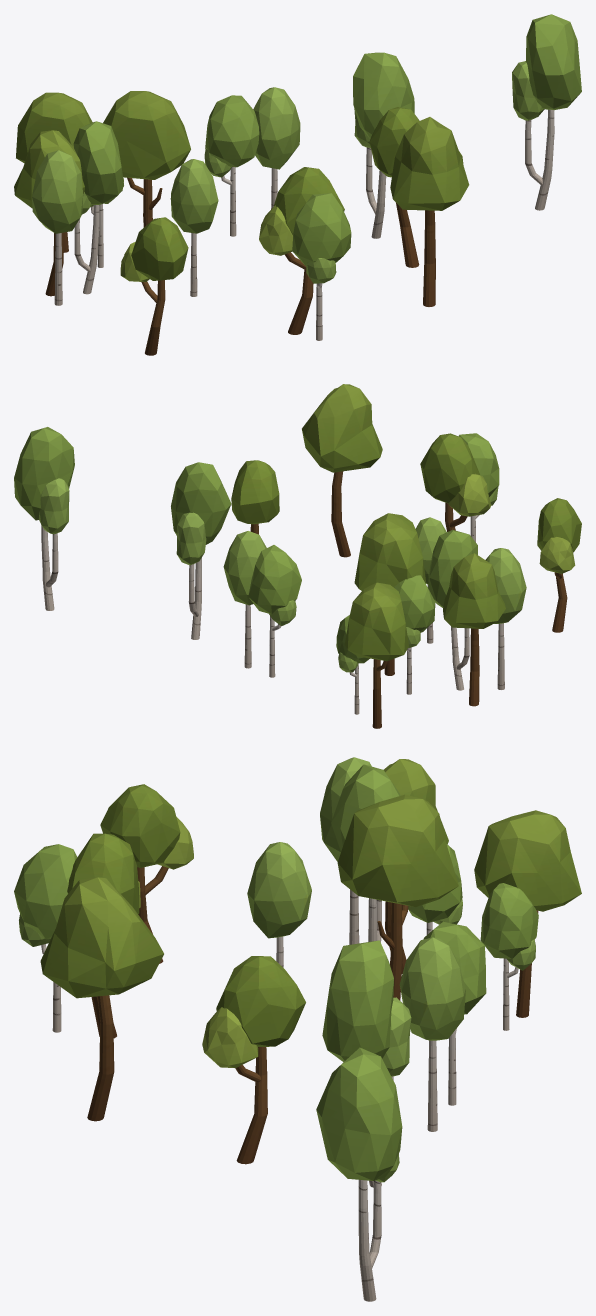
Rendered from Trees3.gltf.
The picture shows the model from 3 angles, top to bottom: view 1: azimuth 30°, elevation 25°; view 2: azimuth 150°, elevation 25°; view 3: azimuth 270°, elevation 25°; orthographic projection. The views are drawn at different scales.
Parts seen in each view (by area): view 1: BirchTree2 - copy.028, Beechtree1 - copy.006, Beechtree3 - copy.038, BirchTree2 - copy.006, BirchTree3 - copy.020, BirchTree2 - copy.043, Beechtree2 - copy.022, Beechtree2 - copy.043, BirchTree1 - copy.046, BirchTree3 - copy.018, BirchTree1 - copy.037, BirchTree1 - copy.011 (+3 smaller); view 2: Beechtree1 - copy.006, BirchTree2 - copy.028, BirchTree2 - copy.006, Beechtree3 - copy.021, Beechtree1 - copy.030, Beechtree2 - copy.043, Beechtree3 - copy.038, BirchTree3 - copy.018, Beechtree2 - copy.022, BirchTree2 - copy.043, Beechtree2 - copy.003, BirchTree1 - copy.011 (+5 smaller); view 3: Beechtree1 - copy.006, Beechtree3 - copy.038, BirchTree2 - copy.028, Beechtree2 - copy.003, BirchTree2 - copy.006, Beechtree3 - copy.021, BirchTree1 - copy.011, Beechtree2 - copy.022, BirchTree1 - copy.037, BirchTree3 - copy.020, BirchTree3 - copy.011, Beechtree2 - copy.043 (+5 smaller).
Part boxes in pixels (x1,y1,x2,y2): BirchTree2 - copy.028: [512, 14, 581, 210]; Beechtree1 - copy.006: [390, 117, 469, 306]; Beechtree3 - copy.038: [103, 91, 190, 227]; BirchTree2 - copy.006: [353, 52, 414, 238]; BirchTree3 - copy.020: [292, 193, 351, 340]; BirchTree2 - copy.043: [73, 121, 123, 294]; Beechtree2 - copy.022: [120, 217, 188, 355]; Beechtree2 - copy.043: [259, 167, 344, 334]; BirchTree1 - copy.046: [32, 150, 83, 305]; BirchTree3 - copy.018: [204, 95, 259, 236]; BirchTree1 - copy.037: [170, 159, 218, 296]; BirchTree1 - copy.011: [253, 87, 300, 209]; Beechtree1 - copy.006: [302, 384, 382, 557]; BirchTree2 - copy.028: [14, 427, 74, 610]; BirchTree2 - copy.006: [171, 462, 231, 639]; Beechtree3 - copy.021: [344, 582, 408, 728]; Beechtree1 - copy.030: [443, 553, 505, 706]; Beechtree2 - copy.043: [420, 433, 491, 531]; Beechtree3 - copy.038: [354, 513, 426, 675]; BirchTree3 - copy.018: [248, 545, 301, 677]; Beechtree2 - copy.022: [537, 498, 581, 632]; BirchTree2 - copy.043: [428, 529, 477, 690]; Beechtree2 - copy.003: [231, 460, 279, 534]; BirchTree1 - copy.011: [223, 531, 266, 668]; Beechtree1 - copy.006: [40, 877, 163, 1121]; Beechtree3 - copy.038: [337, 794, 458, 1000]; BirchTree2 - copy.028: [316, 1047, 402, 1301]; Beechtree2 - copy.003: [202, 956, 305, 1164]; BirchTree2 - copy.006: [322, 940, 411, 1187]; Beechtree3 - copy.021: [474, 810, 581, 1017]; BirchTree1 - copy.011: [399, 937, 465, 1131]; Beechtree2 - copy.022: [100, 784, 193, 963]; BirchTree1 - copy.037: [247, 842, 311, 967]; BirchTree3 - copy.020: [14, 844, 77, 1032]; BirchTree3 - copy.011: [480, 883, 538, 1030]; Beechtree2 - copy.043: [67, 833, 140, 1038].
Size of the model in its own units: 33.36 by 12.9 by 23.21.
Materials: 6 (6 with a texture image).
